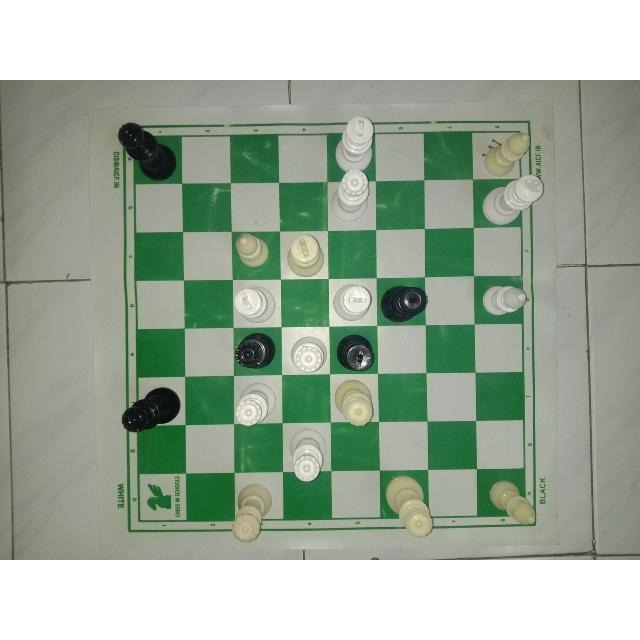black-king: (334, 330, 380, 375)
black-queen: (115, 119, 177, 189), (118, 386, 184, 435), (376, 282, 433, 324), (233, 330, 278, 370)
white-bishop: (481, 473, 539, 528), (482, 125, 535, 175), (477, 280, 529, 317), (230, 230, 274, 270)
white-king: (482, 175, 546, 227), (334, 113, 376, 169), (233, 281, 278, 325), (284, 231, 324, 279), (331, 281, 373, 325)
white-queen: (383, 473, 435, 539), (230, 482, 278, 542), (325, 168, 372, 224), (287, 425, 328, 483), (231, 379, 280, 426), (332, 377, 376, 428), (290, 331, 330, 374)
